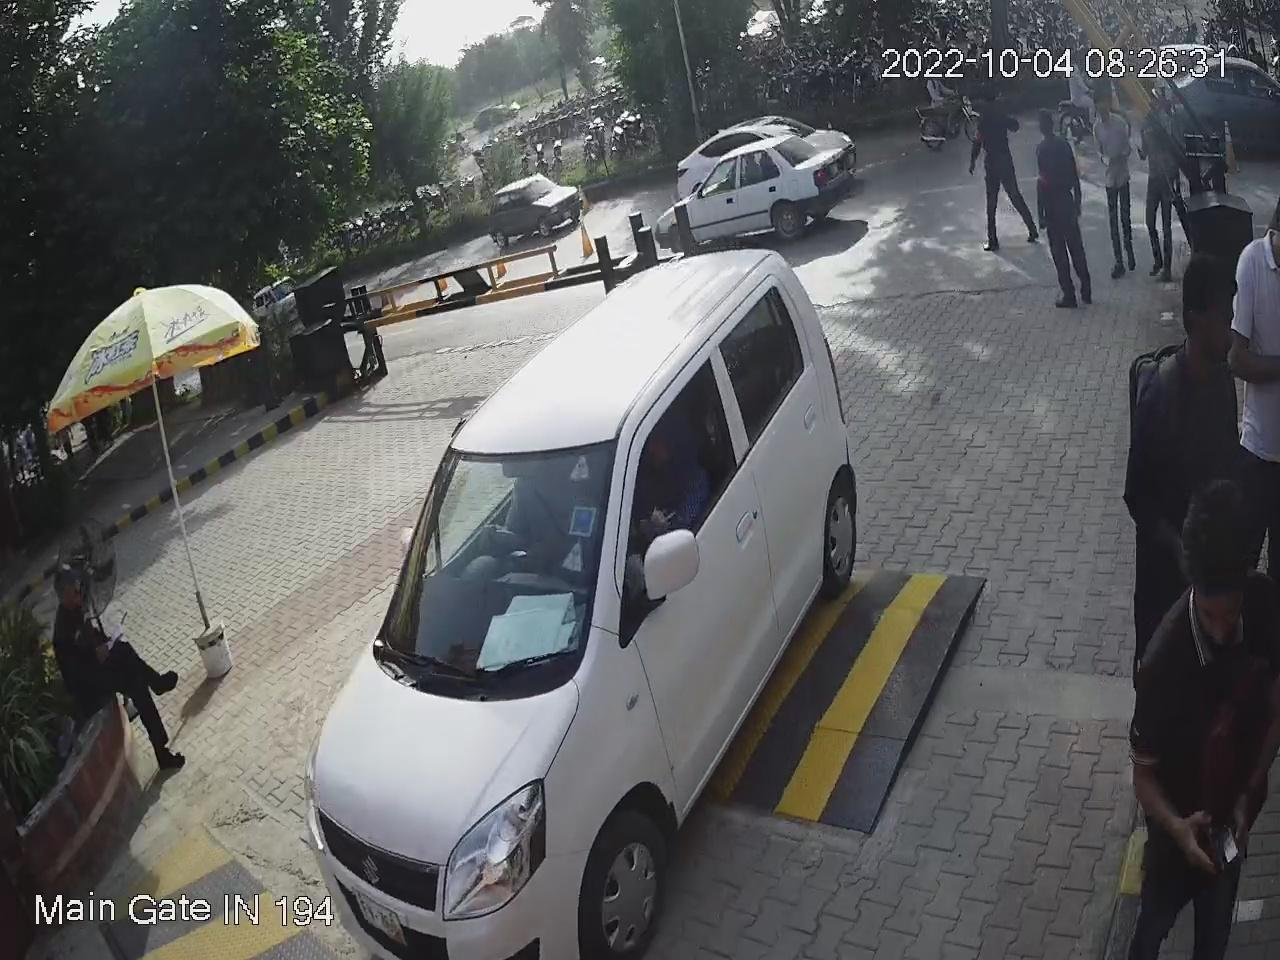windshield: (373, 440, 621, 700)
